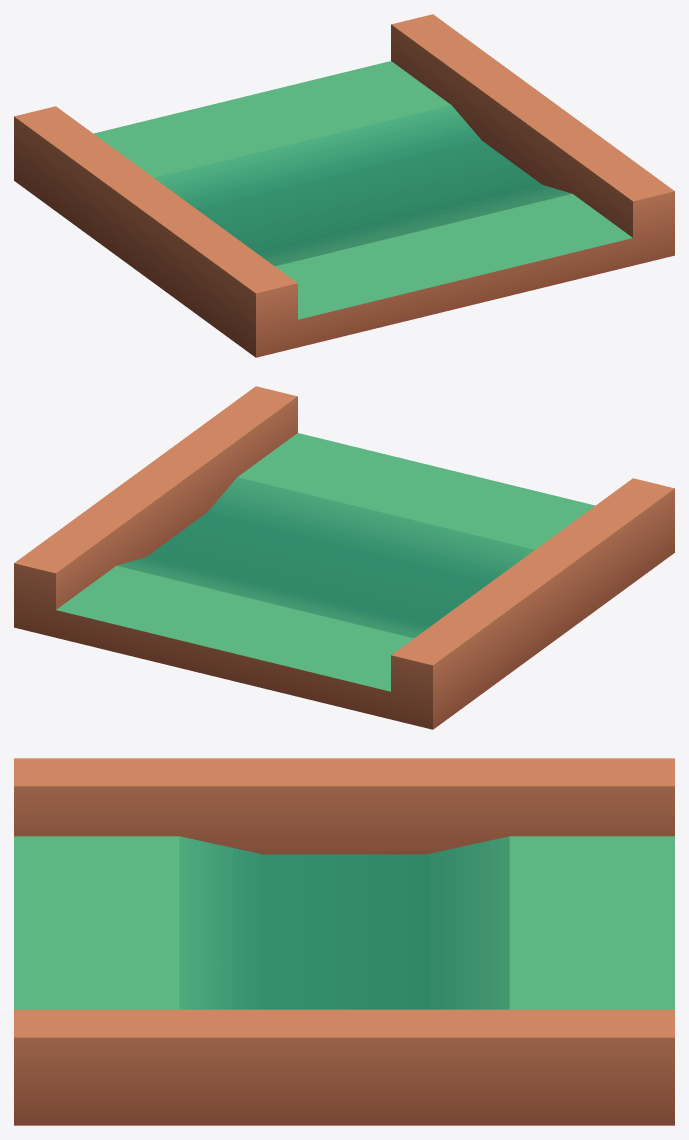
The model's file is crest.glb.
The picture shows the model from 3 angles, top to bottom: view 1: azimuth 30°, elevation 25°; view 2: azimuth 150°, elevation 25°; view 3: azimuth 270°, elevation 25°; orthographic projection. The views are drawn at different scales.
Parts seen in each view (by area): view 1: crest; view 2: crest; view 3: crest.
Boxes of the visible parts, x1,y1,x2,y2 form: crest: (14,14,674,357); crest: (14,386,674,729); crest: (14,758,674,1125).
Bounding box in the file's own units: 0.9999 × 0.1466 × 0.9999.
Materials: 1 (1 with a texture image).
